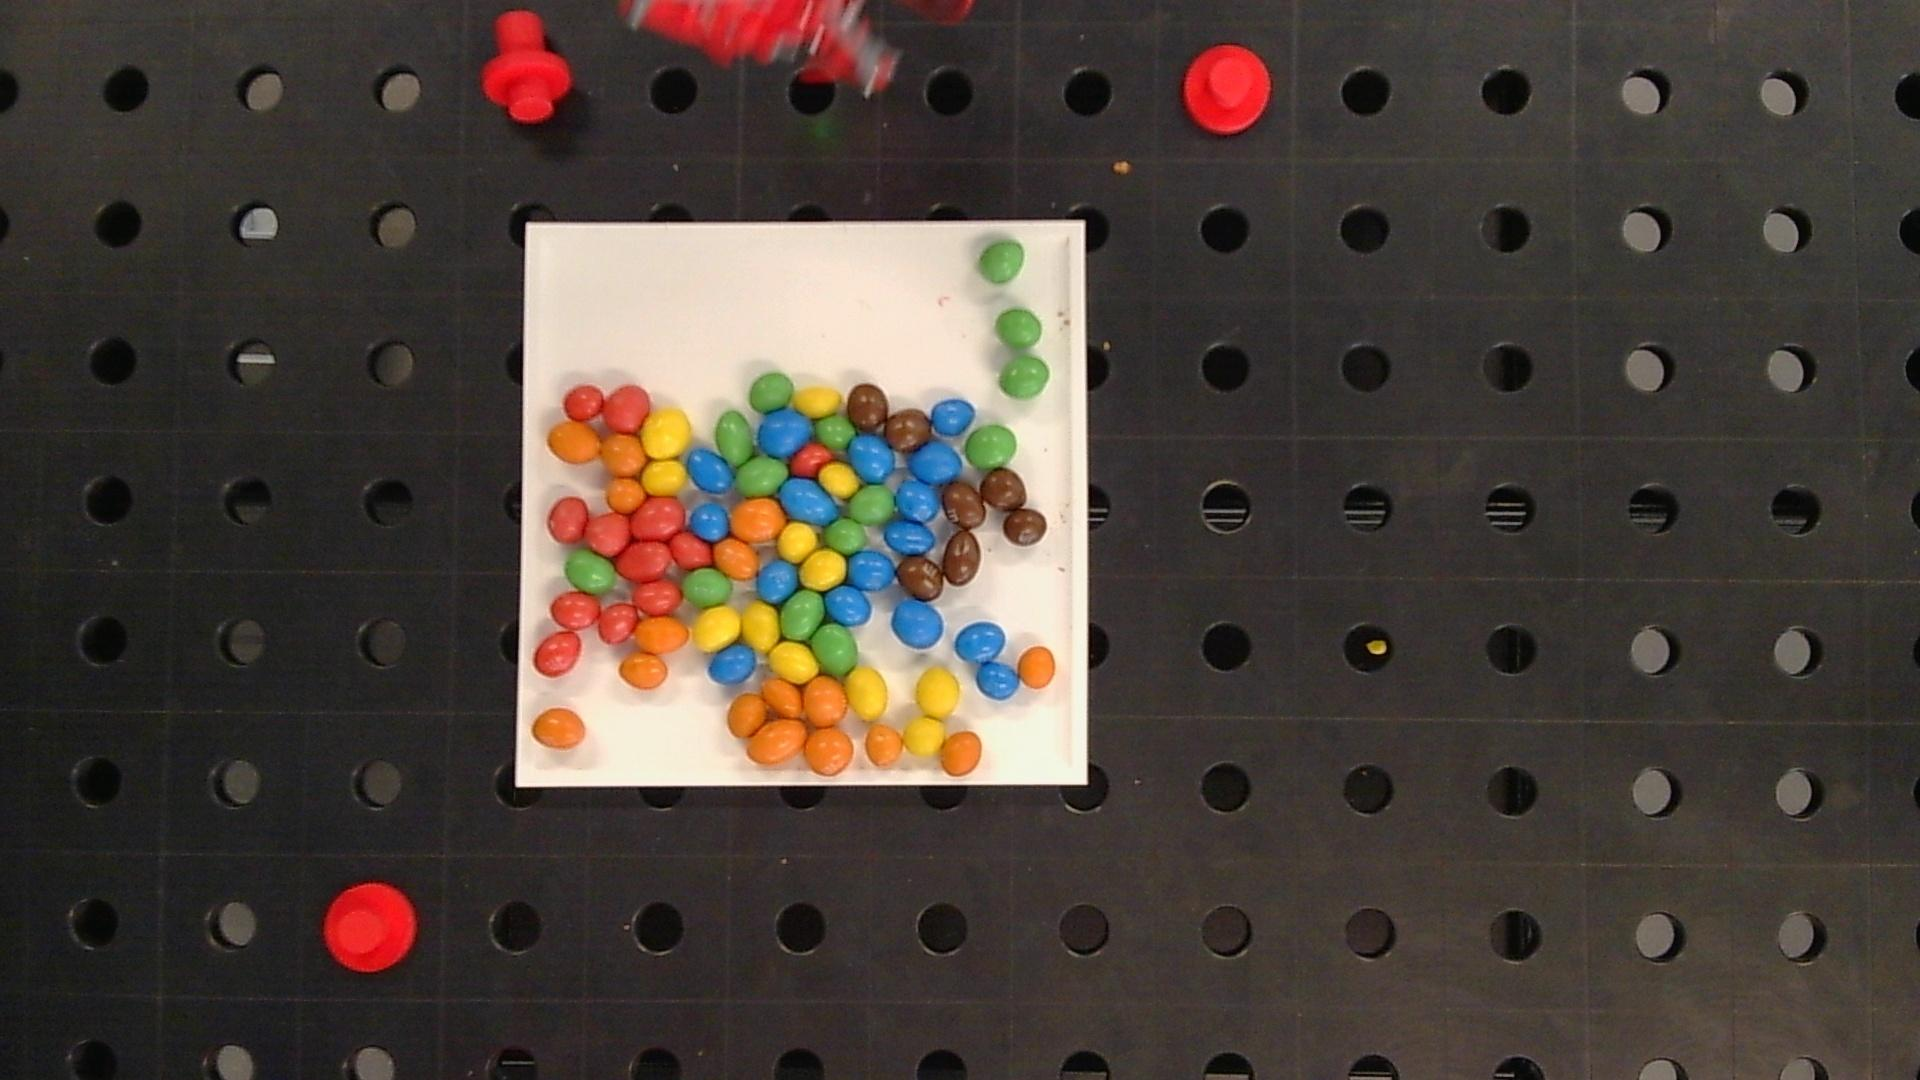blue: (781, 477, 839, 524), (891, 599, 943, 649), (758, 409, 812, 456), (909, 442, 961, 485), (848, 434, 894, 481), (956, 621, 1005, 663), (687, 450, 733, 493), (895, 480, 942, 524), (708, 645, 757, 684), (848, 551, 895, 591), (757, 560, 799, 603), (825, 587, 872, 625), (885, 521, 934, 555), (932, 398, 976, 435), (977, 662, 1019, 699), (688, 502, 729, 539)
brown: (943, 531, 981, 585), (943, 481, 985, 529), (847, 384, 887, 433), (898, 556, 943, 600), (885, 409, 931, 451), (981, 468, 1025, 509), (1004, 509, 1047, 545)
green: (812, 624, 858, 674), (998, 356, 1050, 398), (564, 550, 616, 592), (781, 591, 824, 640), (967, 425, 1017, 467), (736, 455, 787, 495), (715, 411, 753, 463), (978, 241, 1025, 284), (683, 568, 732, 607), (849, 485, 895, 525), (996, 309, 1042, 348), (749, 372, 793, 411), (823, 517, 868, 554), (815, 414, 855, 448)
orange: (746, 719, 807, 764), (804, 728, 855, 774), (732, 498, 785, 541), (547, 422, 600, 463), (531, 708, 585, 748), (804, 678, 847, 725), (940, 731, 982, 777), (713, 537, 758, 579), (601, 433, 645, 475), (636, 617, 688, 651), (620, 653, 667, 690), (864, 724, 903, 766), (728, 694, 766, 736), (762, 678, 802, 716), (1018, 646, 1055, 687), (607, 477, 645, 512)
red: (632, 498, 684, 538), (618, 542, 671, 582), (604, 385, 650, 430), (534, 632, 582, 675), (617, 542, 670, 580), (587, 512, 630, 555), (547, 497, 588, 542), (551, 592, 600, 628), (633, 580, 680, 615), (597, 604, 638, 642), (670, 531, 711, 567), (563, 385, 604, 419), (791, 443, 833, 476)
yellow: (642, 410, 690, 458), (915, 667, 959, 717), (847, 667, 887, 720), (692, 607, 740, 651), (770, 644, 819, 682), (800, 550, 847, 589), (741, 603, 778, 650), (778, 524, 819, 560), (903, 717, 944, 754), (642, 460, 686, 495), (794, 386, 841, 415), (820, 464, 860, 498)
